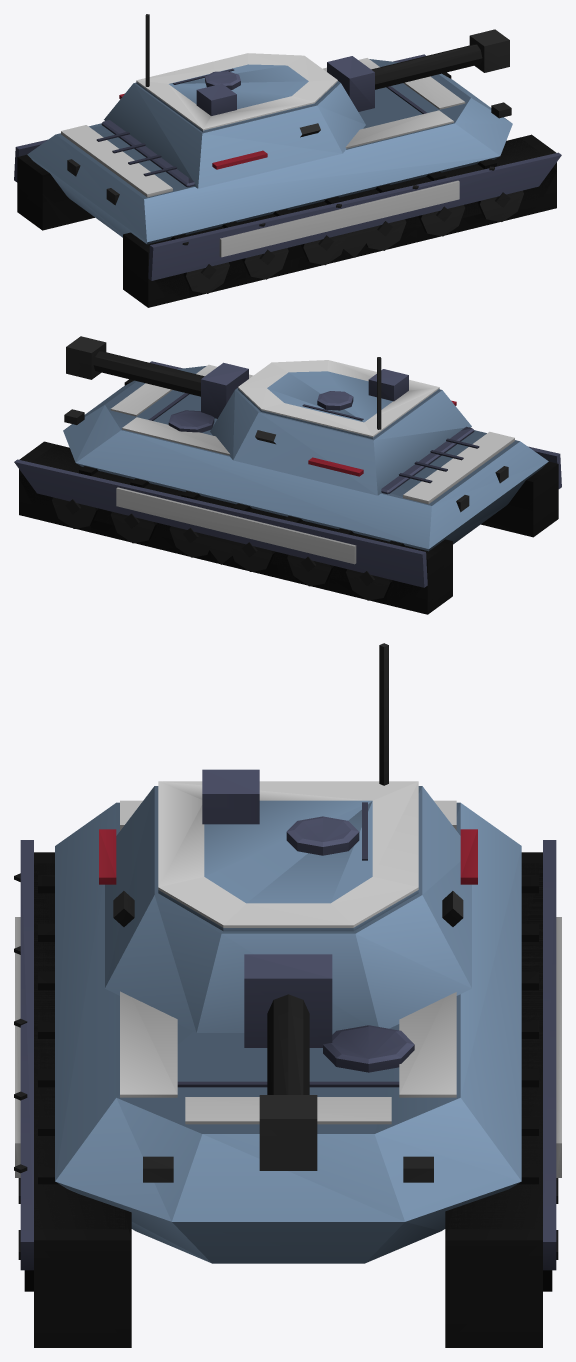
File: veyran_light_tank.glb
The picture shows the model from 3 angles, top to bottom: view 1: azimuth 30°, elevation 25°; view 2: azimuth 150°, elevation 25°; view 3: azimuth 270°, elevation 25°; orthographic projection. The views are drawn at different scales.
Visible parts, largest first — view 1: hull (×3), turret, barrel; view 2: hull (×3), turret, barrel; view 3: hull (×2), turret, barrel.
Boxes of the visible parts, box(x1,y1,x2,y2) form: hull (×3): box(14, 54, 561, 307); turret: box(104, 14, 365, 188); barrel: box(327, 29, 509, 111); hull (×3): box(14, 361, 561, 614); turret: box(210, 357, 471, 495); barrel: box(66, 336, 248, 418); hull (×2): box(14, 800, 561, 1347); turret: box(99, 643, 477, 1032); barrel: box(244, 954, 332, 1170).
Size of the model in its own units: 4.93 by 2.3 by 2.86.
